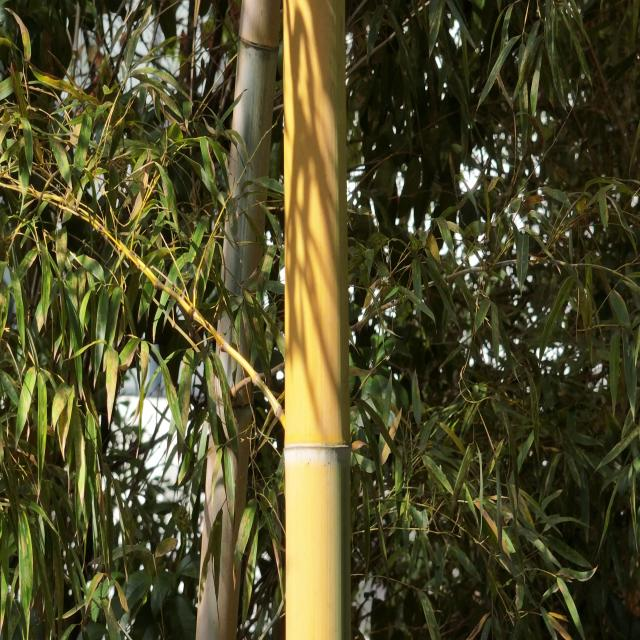Bamboo-shoots: (284, 0, 350, 640)
